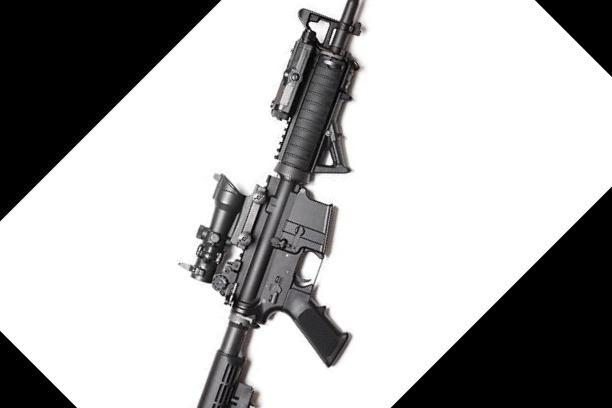larga: (179, 1, 362, 408)
